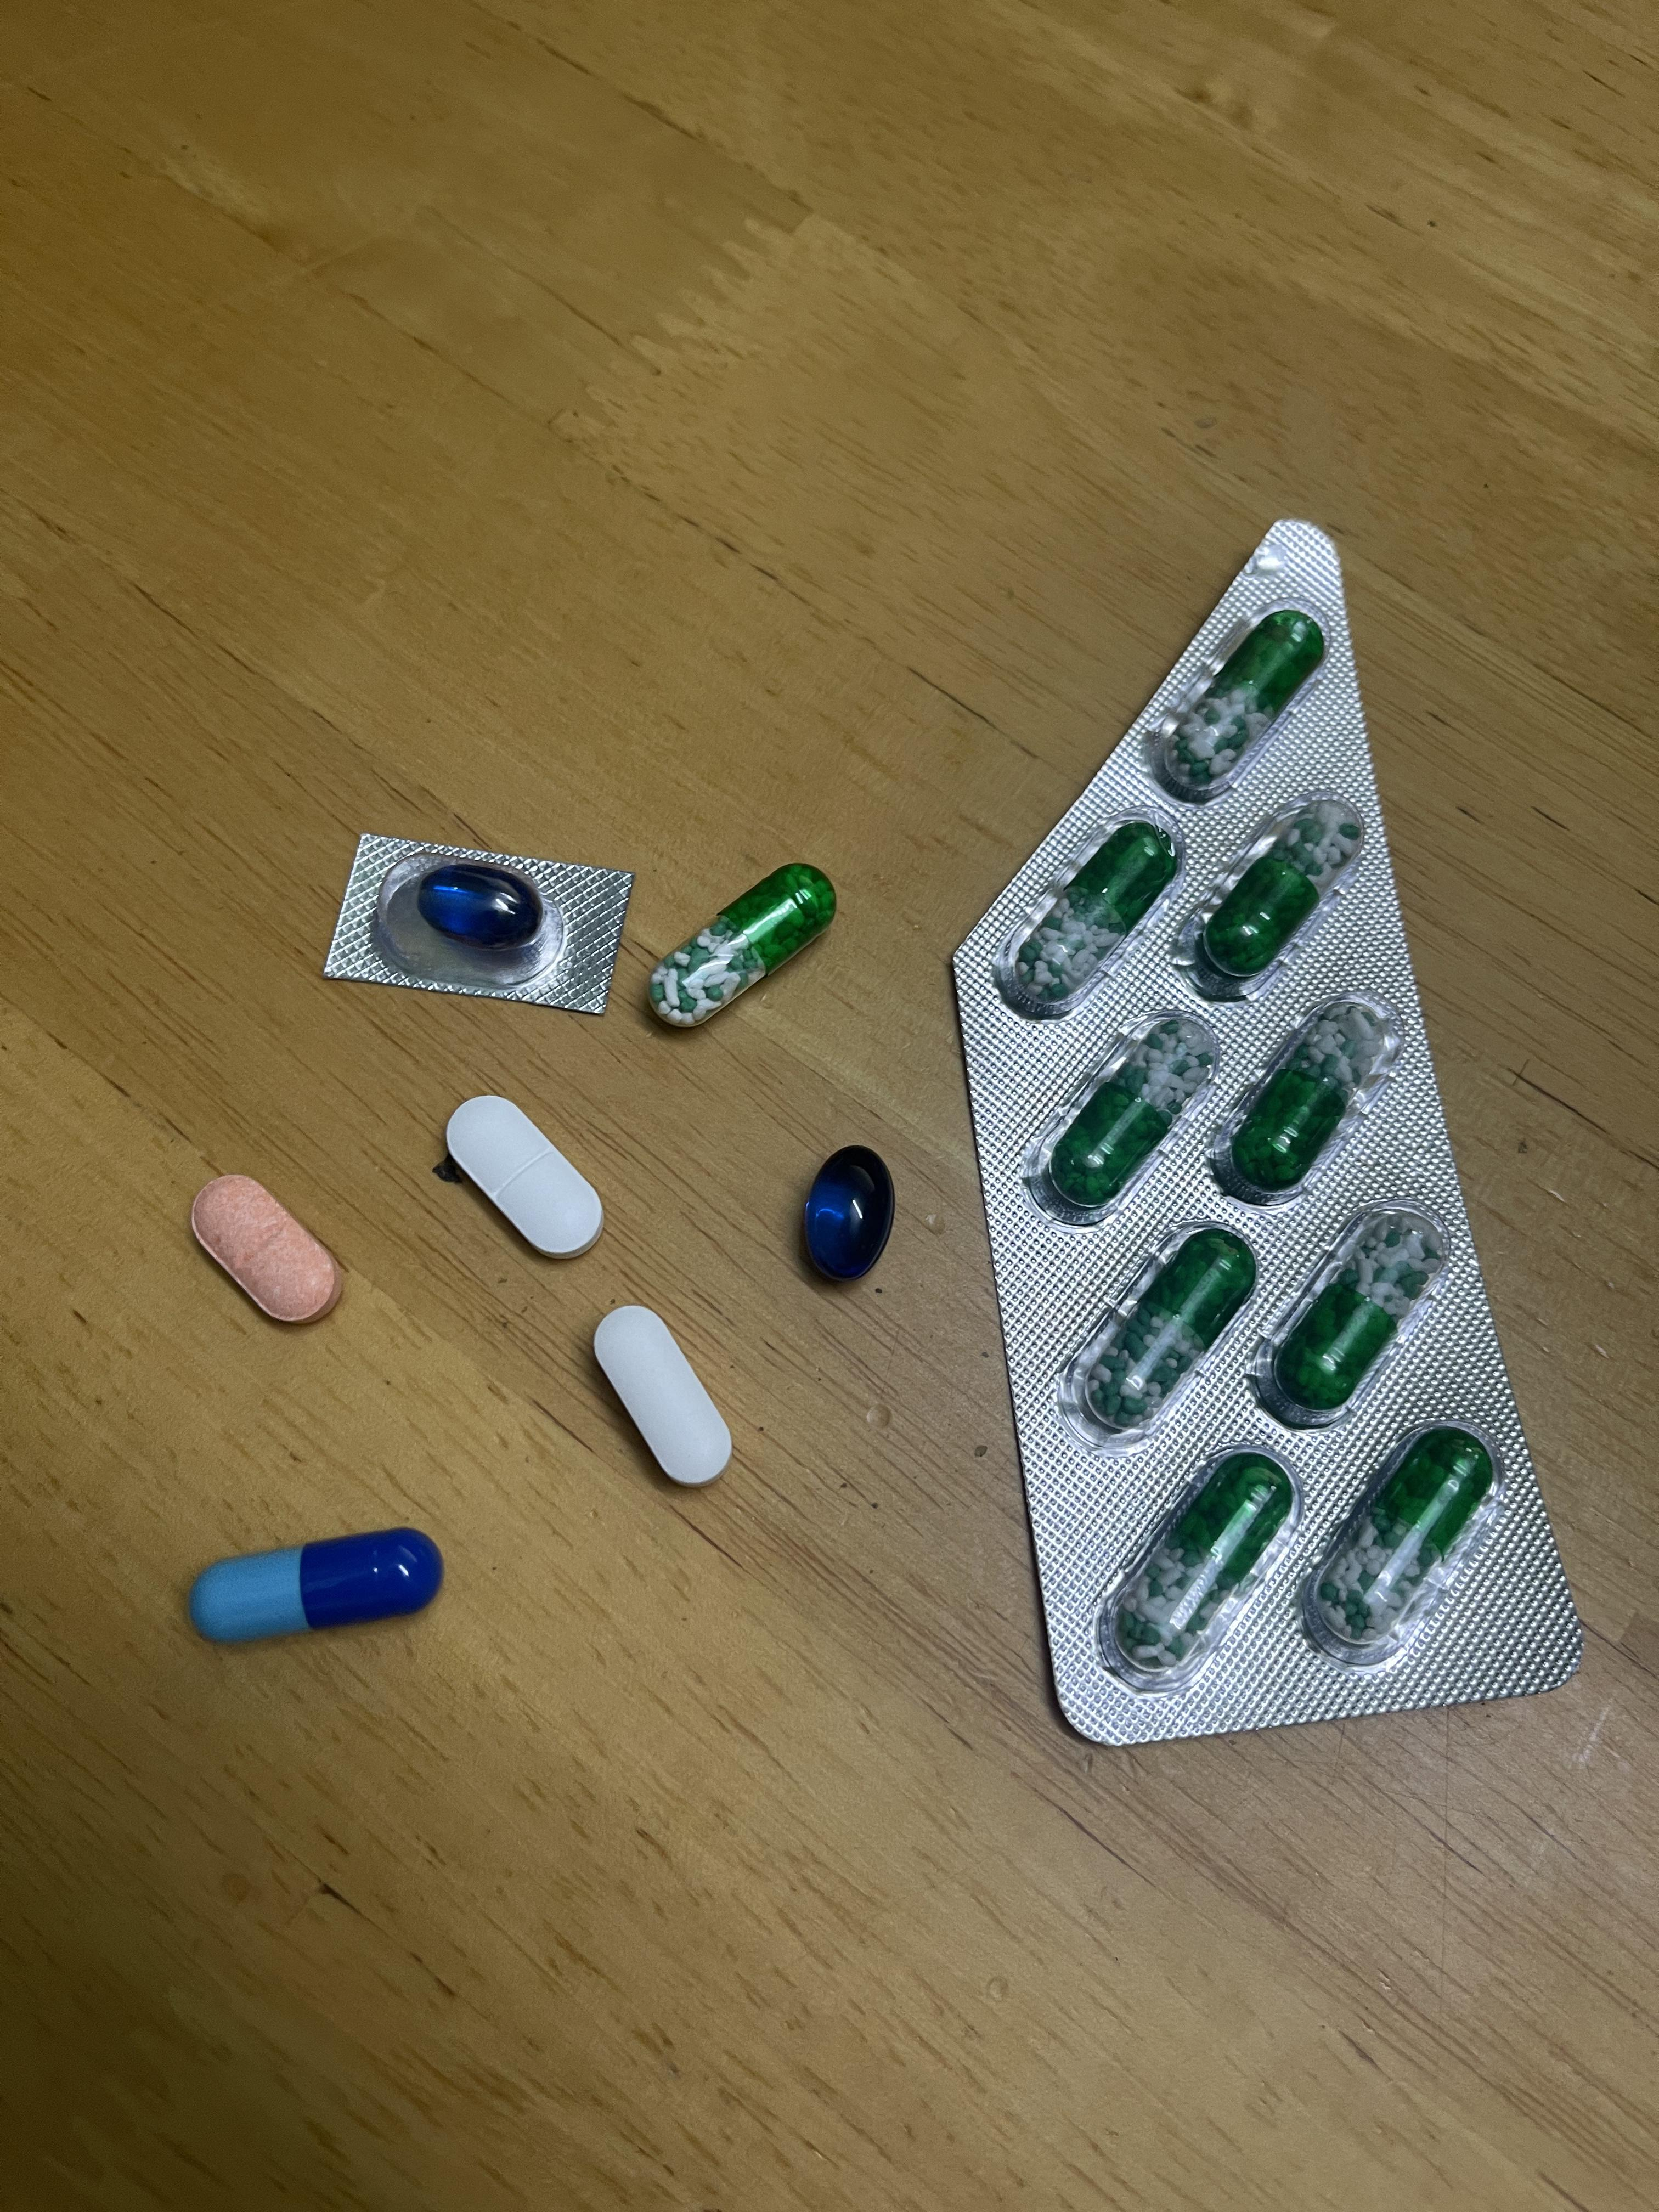Lincomyxin_500mg: (805, 1146, 892, 1280), (416, 864, 545, 951)
Loratadine_10mg: (192, 1172, 342, 1324)
Paracetamol_350mg: (448, 1096, 603, 1258)
Paracetamol_500mg: (596, 1305, 732, 1484)
Paracetamol_650mg: (1105, 1449, 1290, 1684), (1310, 1426, 1495, 1653), (1068, 1219, 1256, 1439), (1262, 1202, 1448, 1421), (1218, 991, 1398, 1200), (1040, 1008, 1215, 1214), (1187, 794, 1366, 991), (1159, 606, 1326, 799), (1011, 817, 1176, 1007), (653, 866, 833, 1026)
pill: (193, 1533, 434, 1639)
